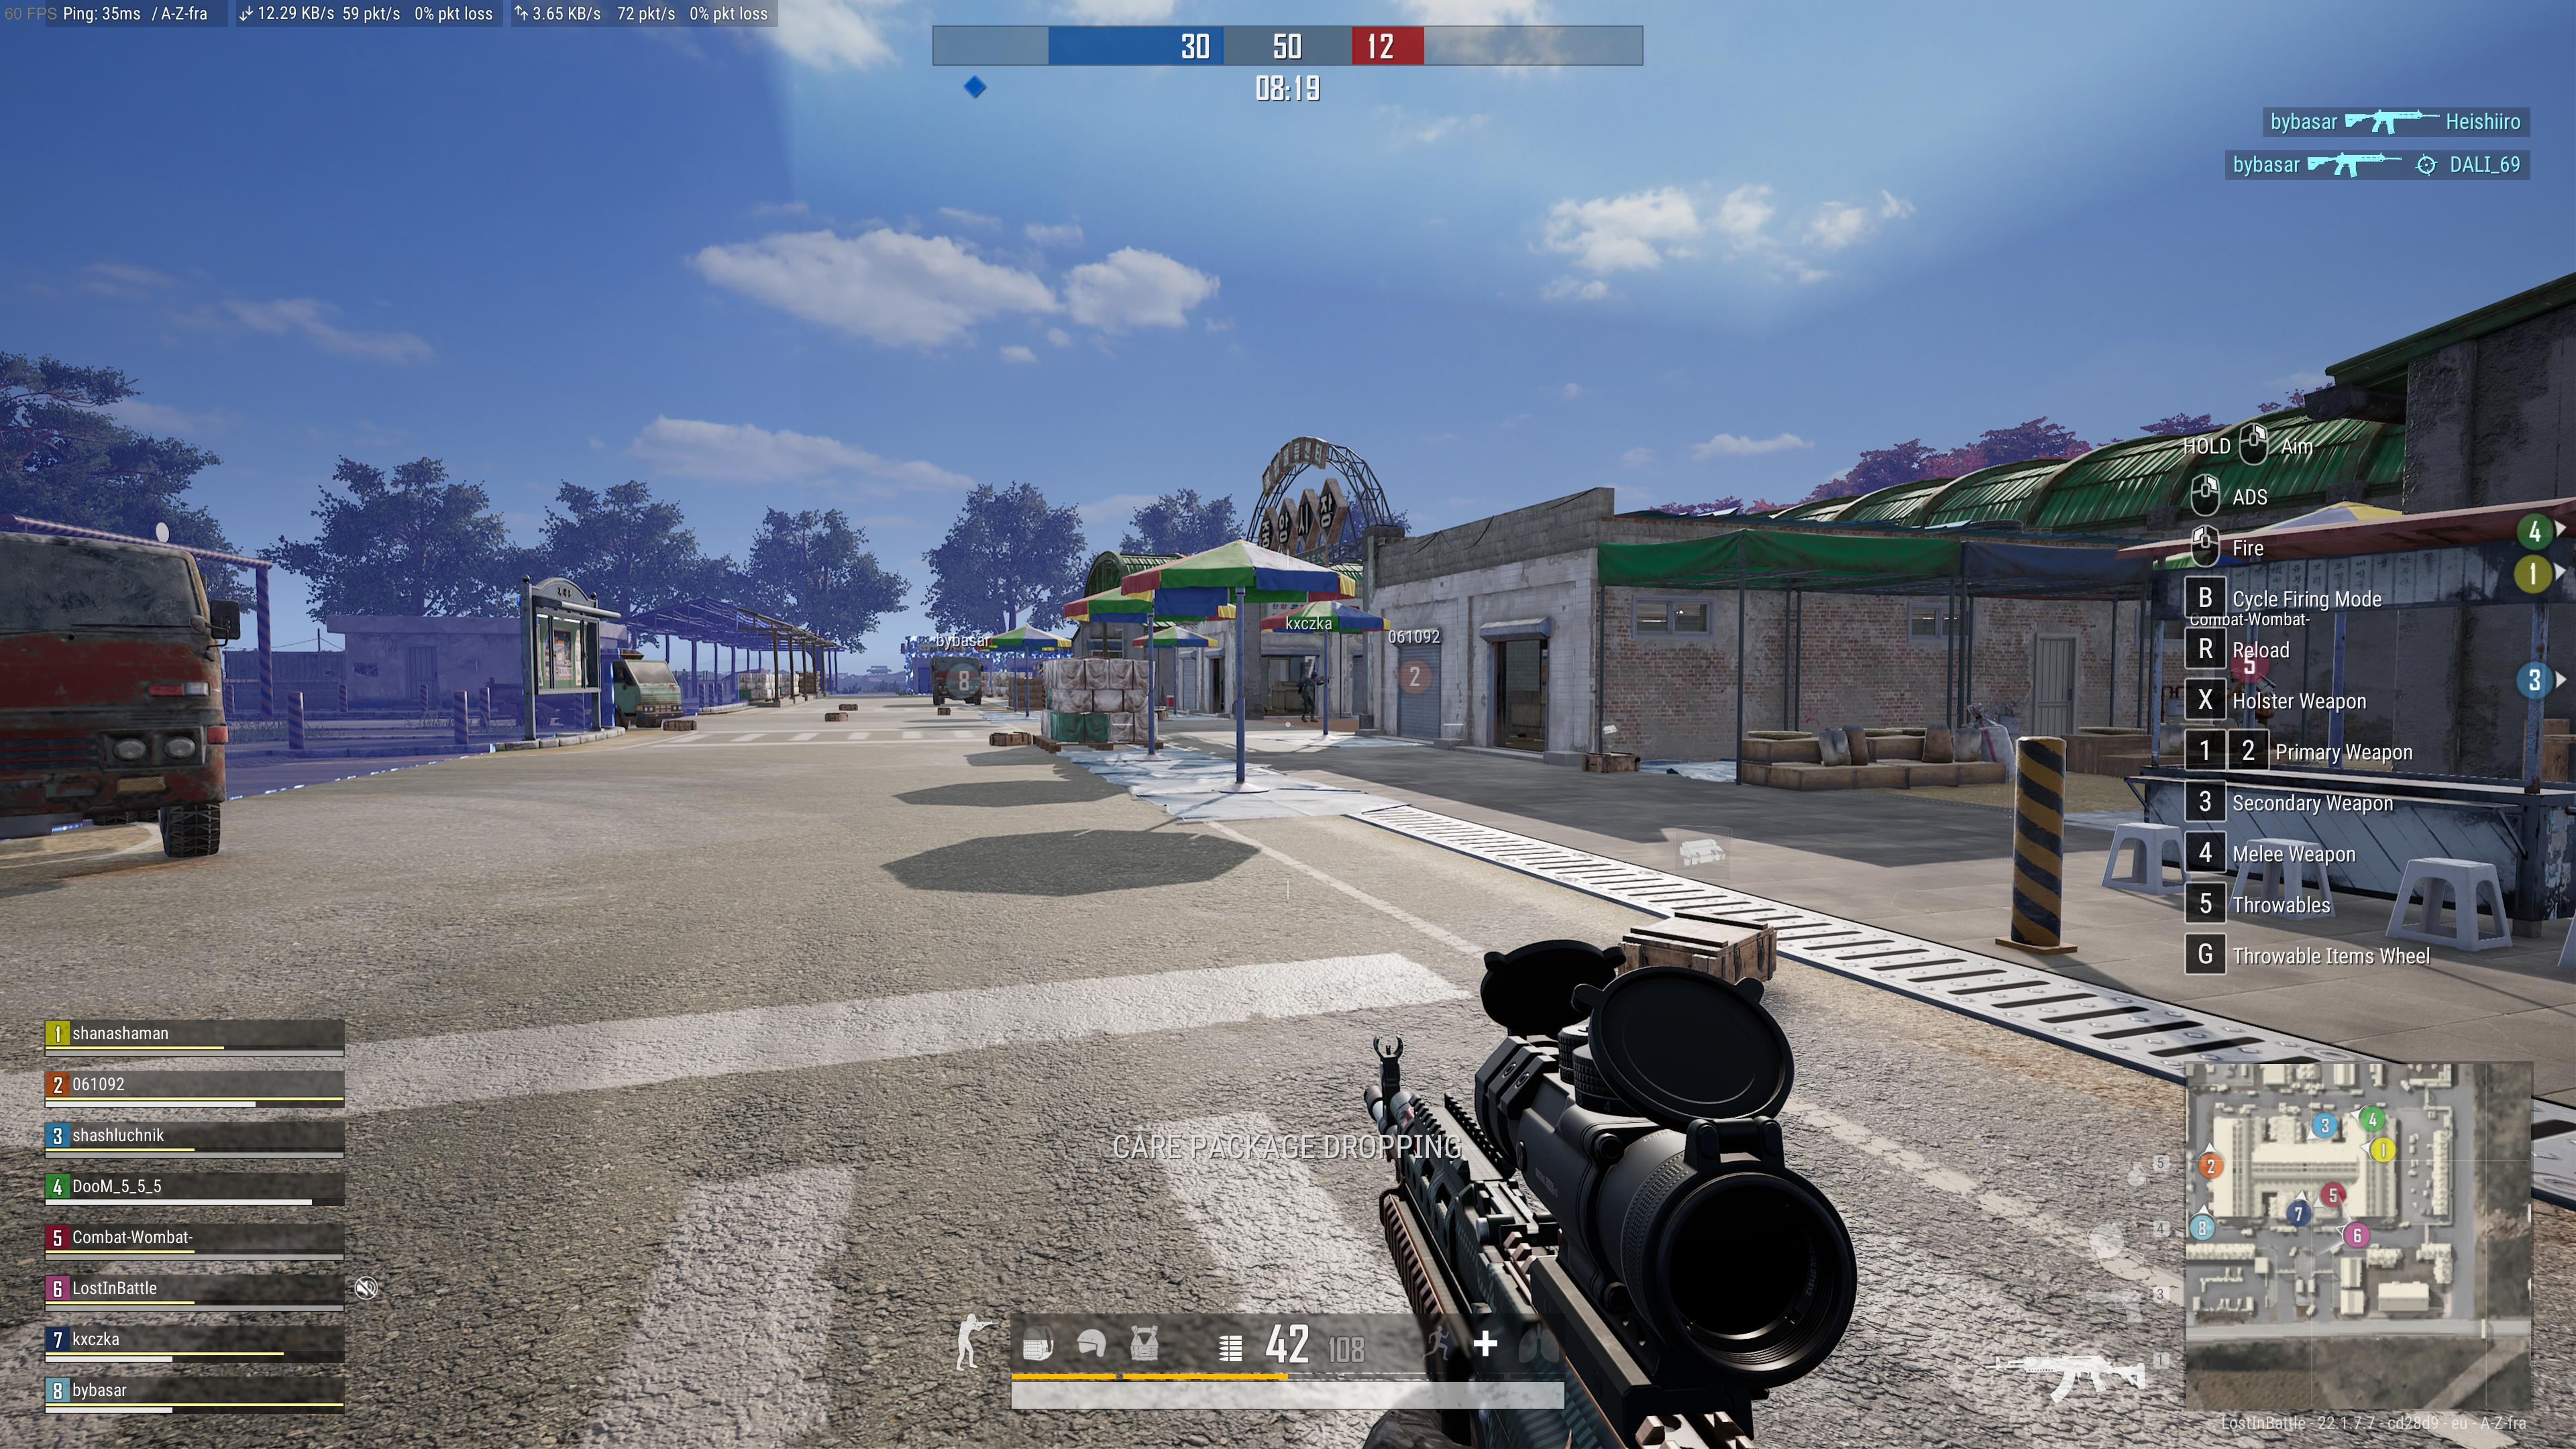friendly: (1293, 648, 1325, 725)
